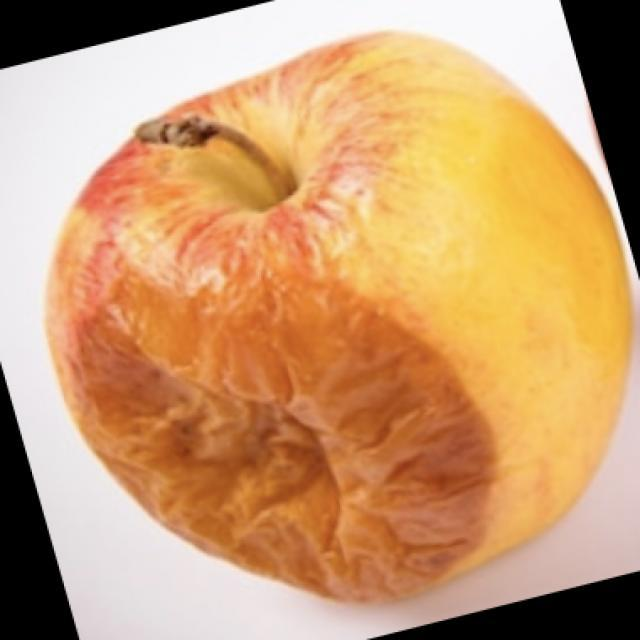Rotten: (62, 47, 618, 588)
